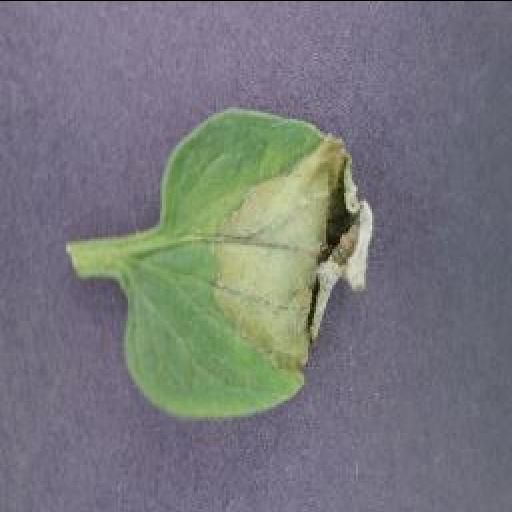disease_tomato: (112, 96, 382, 426)
